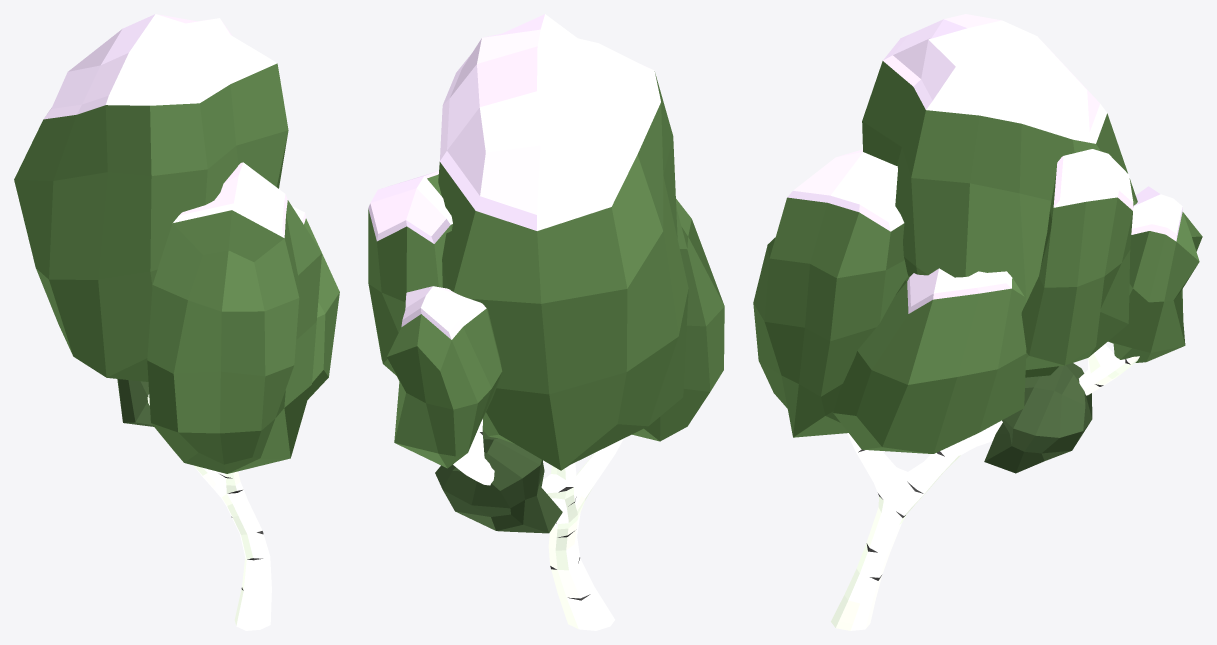
File: BirchTree_Snow_1.glb
3 views of the same model, side by side, from view 1: azimuth 30°, elevation 25°; view 2: azimuth 150°, elevation 25°; view 3: azimuth 270°, elevation 25° (orthographic). The views are drawn at different scales.
Parts seen in each view (by area): view 1: BirchTree_Snow_1; view 2: BirchTree_Snow_1; view 3: BirchTree_Snow_1.
Part boxes in pixels (x1,y1,x2,y2): BirchTree_Snow_1: [14, 14, 339, 630]; BirchTree_Snow_1: [368, 14, 724, 630]; BirchTree_Snow_1: [753, 14, 1202, 630].
Size of the model in its own units: 170 by 359 by 248.
